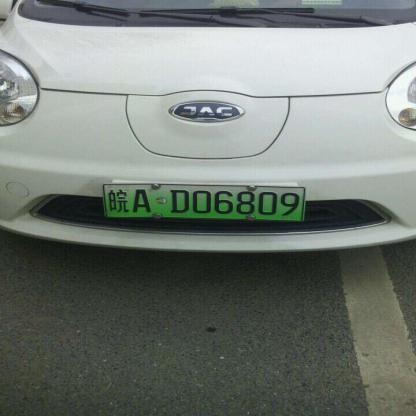lp: (103, 183, 304, 221)
